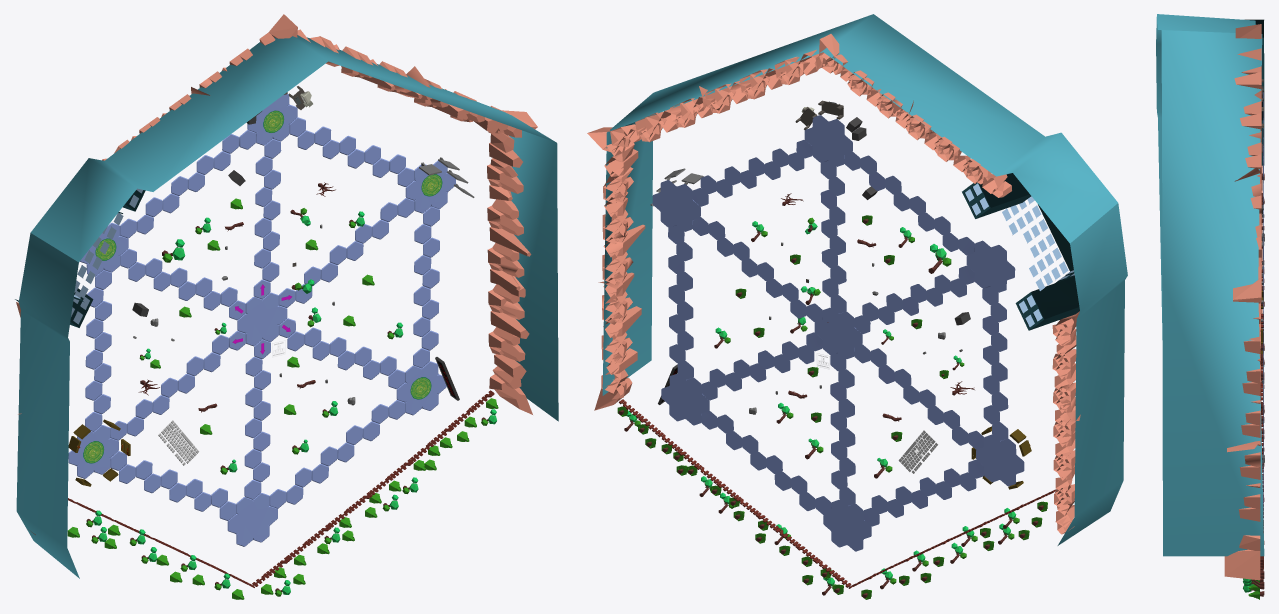
File: MainMap.glb
3 renders of one model, left to right at view 1: azimuth 30°, elevation 25°; view 2: azimuth 150°, elevation 25°; view 3: azimuth 270°, elevation 25°, orthographic. The views are drawn at different scales.
Visible parts, largest first — view 1: Plane.001, Circle.015, Circle.014, пол.010, пол.008, пол.011, пол.002, пол.003, пол.005, пол.006, пол.001, пол.012 (+13 smaller); view 2: Plane.001, Circle.015, Circle.014, Circle.032, Circle.001, stone2.001, пол.008, пол.010, пол.002, пол.004, пол.005, пол.001 (+15 smaller); view 3: Plane.001, Circle.015, Circle.014, stone2.001, Circle.001.
Boxes of the visible parts, box(x1,y1,x2,y2) form: Plane.001: box(16, 35, 558, 578); Circle.015: box(487, 132, 532, 414); Circle.014: box(297, 29, 537, 137); пол.010: box(413, 206, 439, 367); пол.008: box(85, 270, 111, 431); пол.011: box(269, 400, 405, 508); пол.002: box(244, 339, 270, 499); пол.003: box(120, 130, 255, 238); пол.005: box(253, 139, 281, 299); пол.006: box(120, 248, 245, 320); пол.001: box(279, 318, 404, 389); пол.012: box(110, 451, 236, 520); Plane.001: box(602, 14, 1127, 545); Circle.015: box(594, 141, 645, 410); Circle.014: box(587, 49, 831, 156); Circle.032: box(1052, 311, 1080, 534); Circle.001: box(819, 34, 1011, 197); stone2.001: box(962, 173, 1079, 330); пол.008: box(982, 286, 1008, 441); пол.010: box(668, 225, 693, 380); пол.002: box(830, 353, 855, 505); пол.004: box(692, 217, 822, 322); пол.005: box(820, 160, 846, 313); пол.001: box(701, 332, 822, 400); Plane.001: box(1156, 14, 1264, 556); Circle.015: box(1224, 302, 1260, 580); Circle.014: box(1233, 48, 1261, 302); stone2.001: box(1245, 19, 1264, 165); Circle.001: box(1235, 24, 1261, 38).
Size of what is drawn, in the model's own units: 138 by 149 by 25.57.
Materials: 48 (10 with a texture image).
